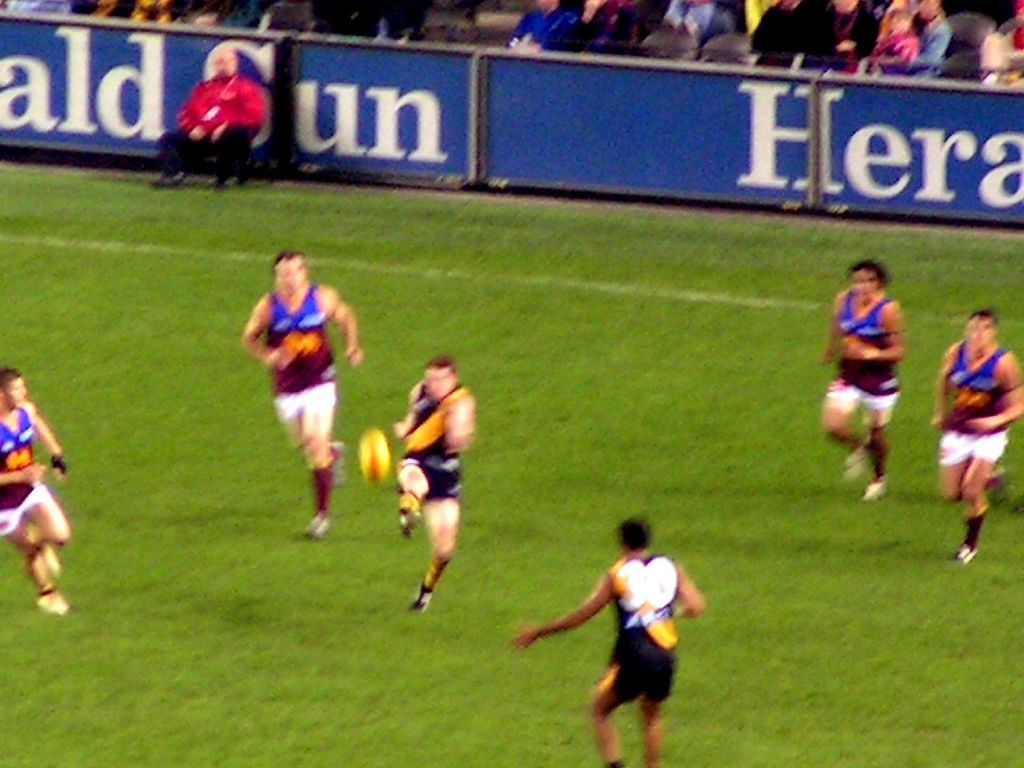Ball: (358, 428, 386, 482)
